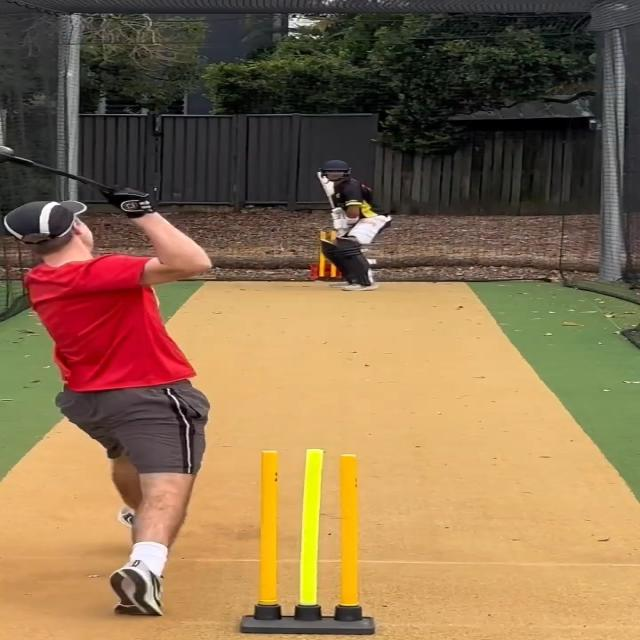stump: (241, 448, 377, 634)
